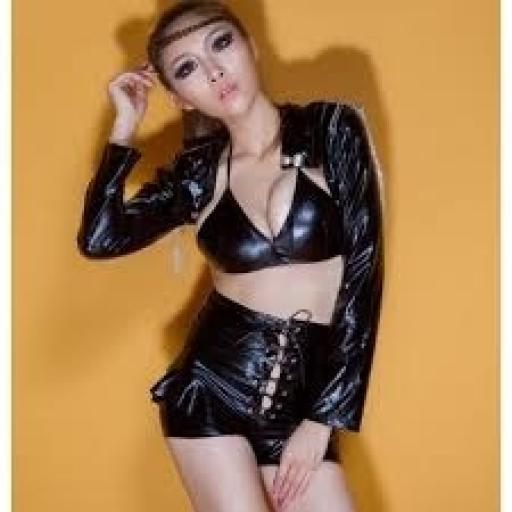dancing: (103, 30, 424, 465)
